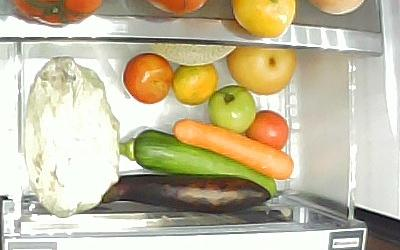cabbage: (27, 56, 118, 218)
carrot: (173, 120, 295, 182)
eggplant: (98, 175, 271, 213)
melon: (149, 43, 237, 66)
pear: (226, 46, 299, 96)
prune: (124, 52, 174, 104)
tangerine: (174, 64, 220, 107)
tomato: (209, 85, 257, 135), (246, 111, 290, 153)
zucchini: (120, 129, 278, 199)
